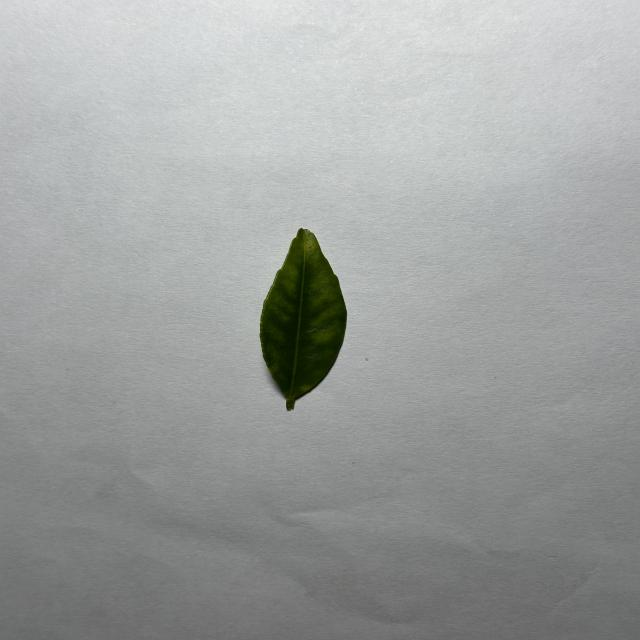greening: (260, 228, 347, 410)
